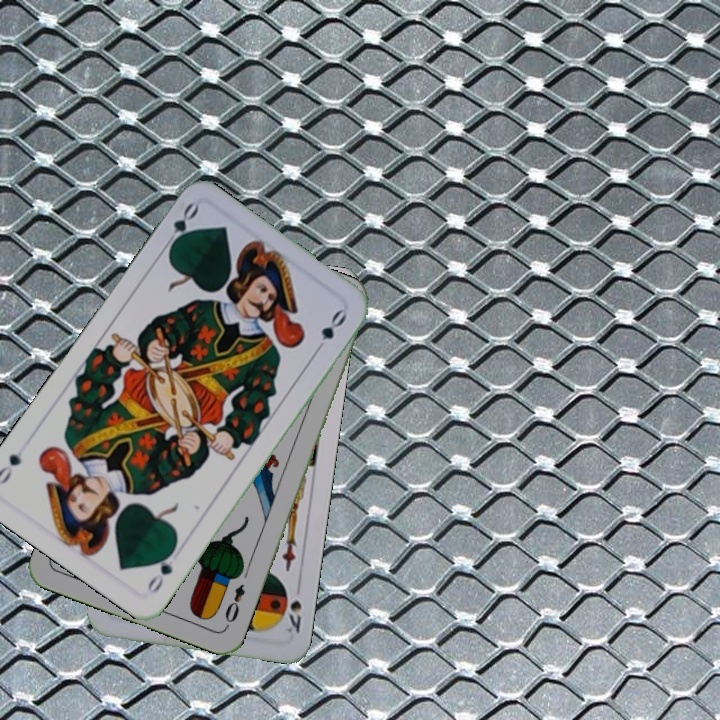EO: (220, 580, 248, 630)
GO: (159, 198, 201, 255), (142, 543, 179, 597)
SK: (278, 585, 305, 636)
